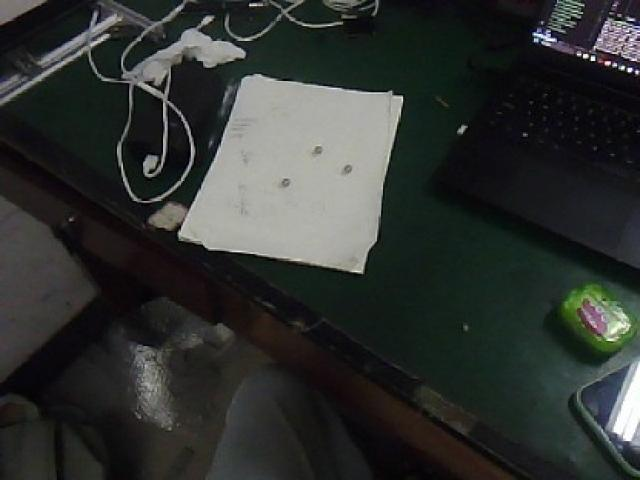steel-ball: (292, 115, 338, 163), (263, 160, 300, 202), (332, 154, 358, 188)
